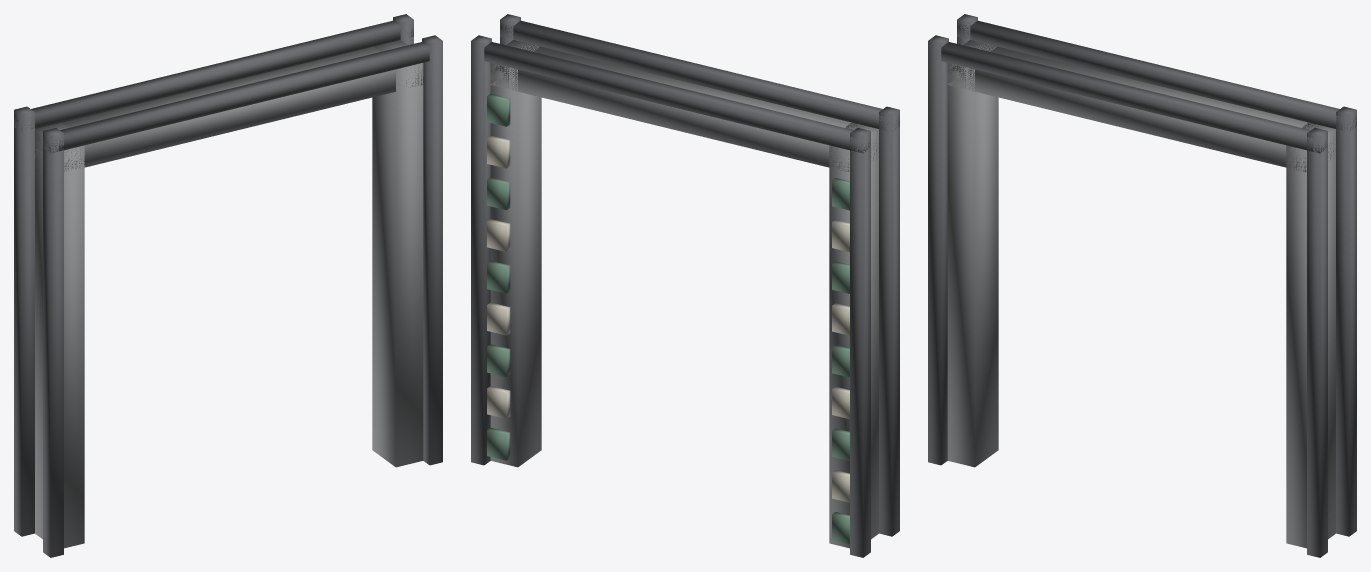
Rendered from doorway_tile_return_w182_h210_d24.glb.
3 views of the same model, side by side, from view 1: azimuth 30°, elevation 25°; view 2: azimuth 150°, elevation 25°; view 3: azimuth 330°, elevation 25° (orthographic).
Visible parts, largest first — view 1: world; view 2: world; view 3: world.
Boxes of the visible parts, left/top/right/bottom form: world: left=14, top=14, right=442, bottom=557; world: left=471, top=14, right=899, bottom=557; world: left=928, top=14, right=1356, bottom=557.
Bounding box in the file's own units: 2.29 × 2.36 × 0.3706.
